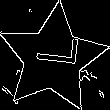L_W: (26, 40, 80, 77)
